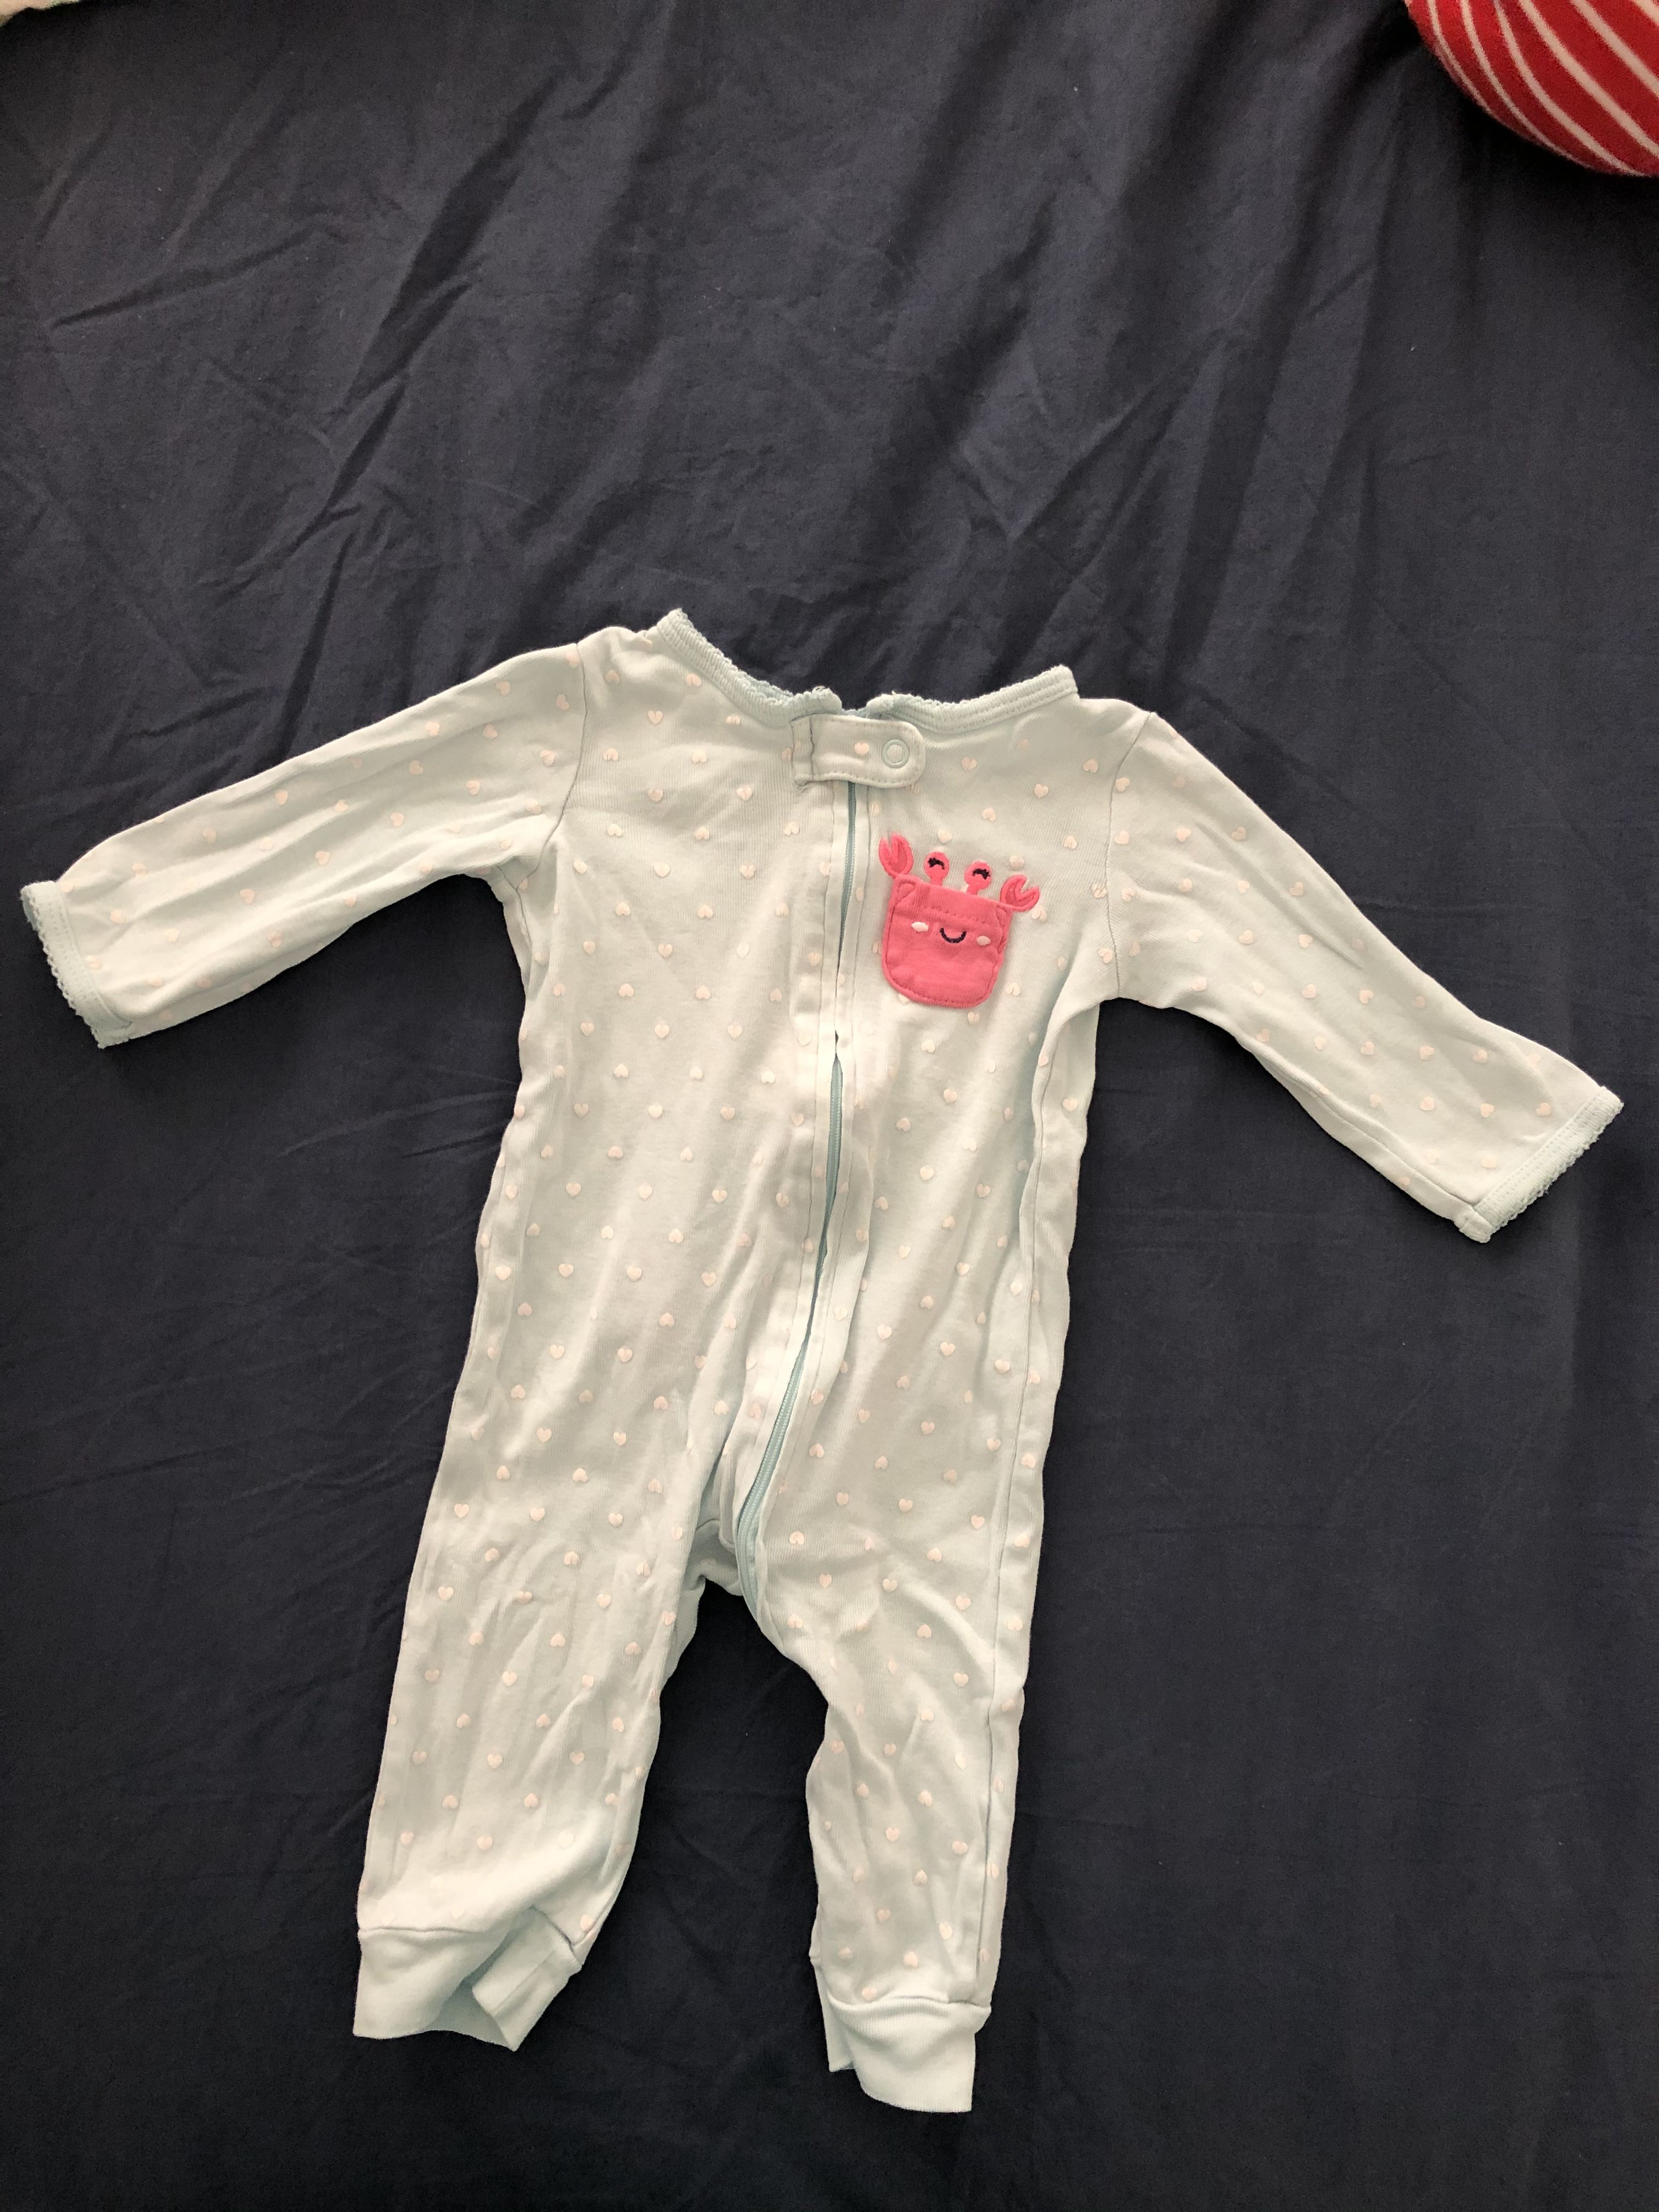clothes: (37, 624, 1615, 2135)
